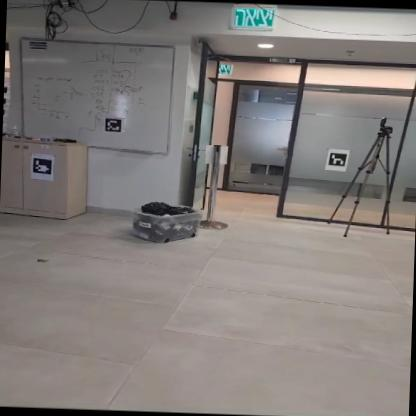open: (174, 68, 302, 235)
